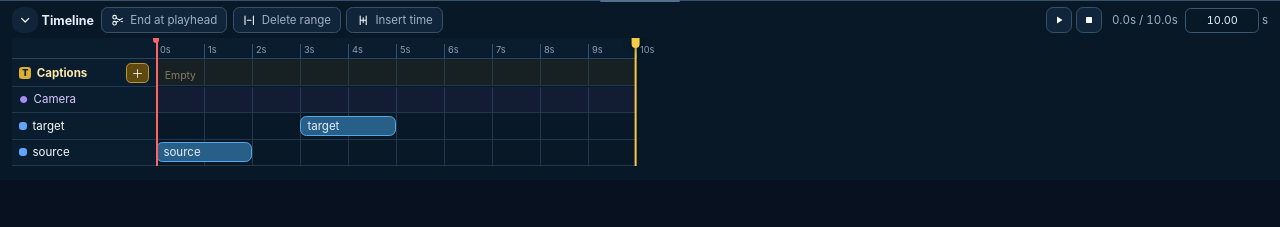
Test case: ObjectTimeline › deletes the layer selected from its context menu
This screenshot has width=1280, height=227.
Right-click the element with class "object-timeline-clip" showing "source" at (204, 152), box [156,142,252,162]
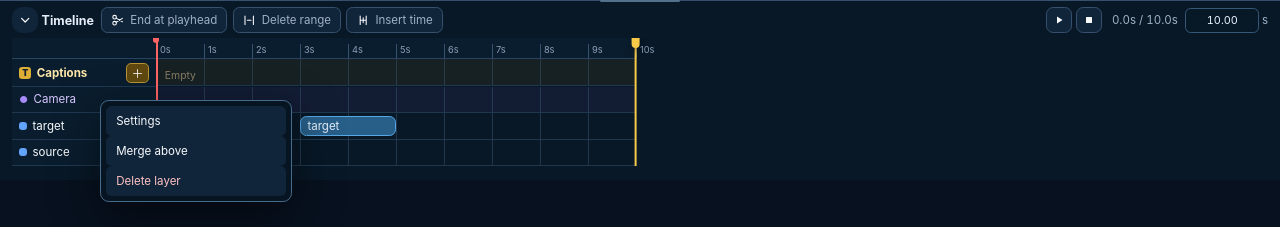
Click the menu item "Delete layer" at (196, 181), box [106,166,286,196]
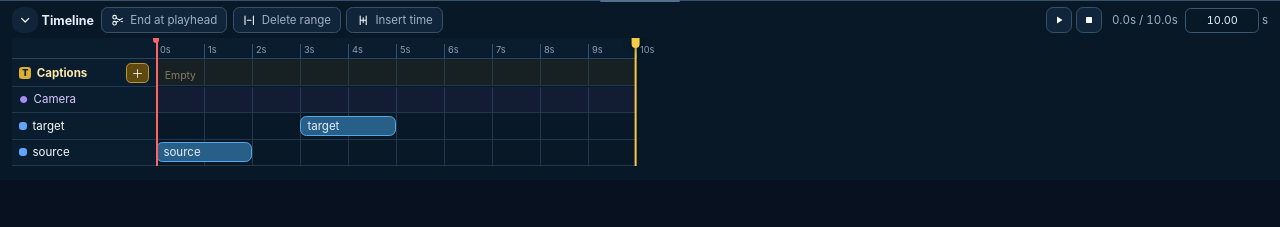
Now the menu is gone
